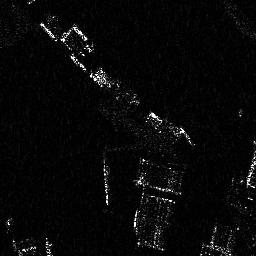ship: (101, 164, 112, 205)
